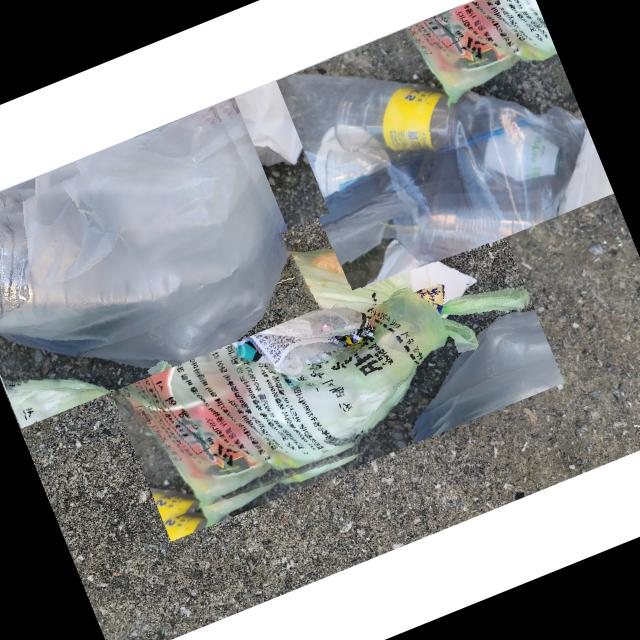general_trashbag: (78, 249, 525, 511)
other_trashbag: (0, 105, 289, 365), (275, 73, 583, 261)
